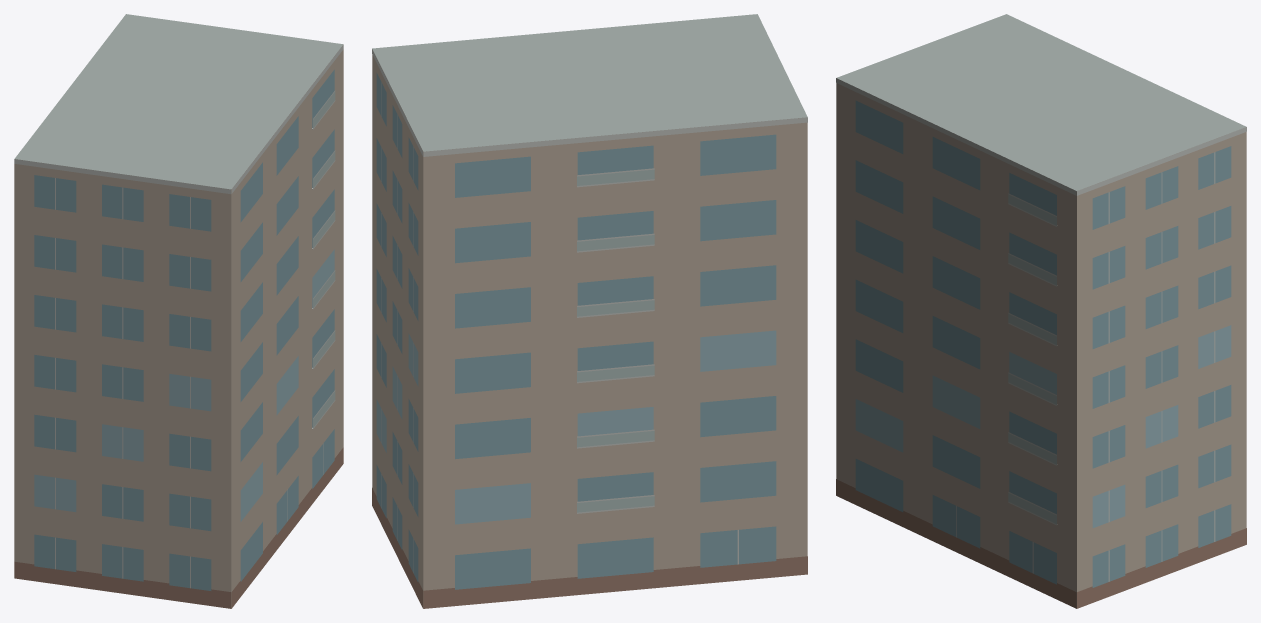
File: survey-upis-32893358.glb
The picture shows the model from 3 angles, left to right: view 1: azimuth 30°, elevation 25°; view 2: azimuth 150°, elevation 25°; view 3: azimuth 270°, elevation 25°; orthographic projection. The views are drawn at different scales.
Visible parts, largest first — view 1: survey-upis-32893358.tmp; view 2: survey-upis-32893358.tmp; view 3: survey-upis-32893358.tmp.
Part boxes in pixels (box(x1,y1,x2,y2)): survey-upis-32893358.tmp: box(14, 14, 343, 608); survey-upis-32893358.tmp: box(372, 14, 807, 608); survey-upis-32893358.tmp: box(836, 14, 1246, 608).
Bounding box in the file's own units: 19.19 × 21.1 × 18.8.
